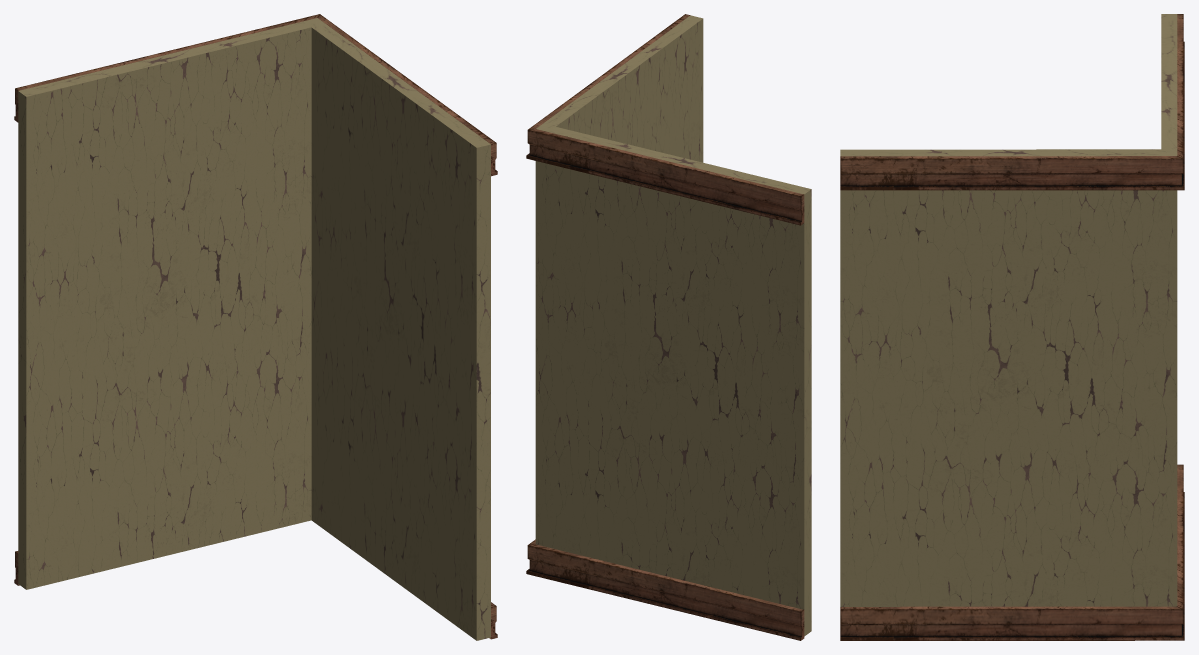
Rendered from Wall_CornerOut_2m_C.fbx.
3 renders of one model, left to right at view 1: azimuth 30°, elevation 25°; view 2: azimuth 150°, elevation 25°; view 3: azimuth 270°, elevation 25°, orthographic. The views are drawn at different scales.
Parts seen in each view (by area): view 1: Wall_CornerOut_2m_A.001; view 2: Wall_CornerOut_2m_A.001; view 3: Wall_CornerOut_2m_A.001.
Part boxes in pixels (box(x1,y1,x2,y2)): Wall_CornerOut_2m_A.001: box(14, 14, 497, 640); Wall_CornerOut_2m_A.001: box(526, 14, 811, 640); Wall_CornerOut_2m_A.001: box(840, 14, 1184, 640).
Size of the model in its own units: 2.15 by 3.31 by 2.15.
